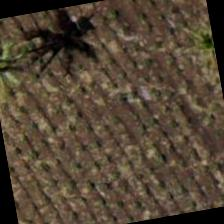Kelapa_Sawit: (155, 0, 220, 92), (0, 11, 53, 110)
